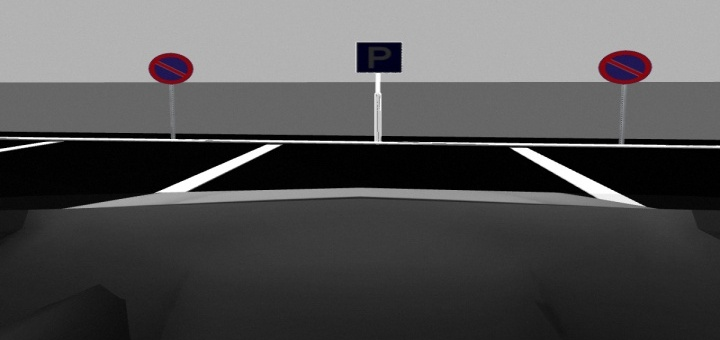park: (353, 37, 409, 80)
park_yapilmaz: (599, 51, 655, 90), (146, 52, 196, 87)
